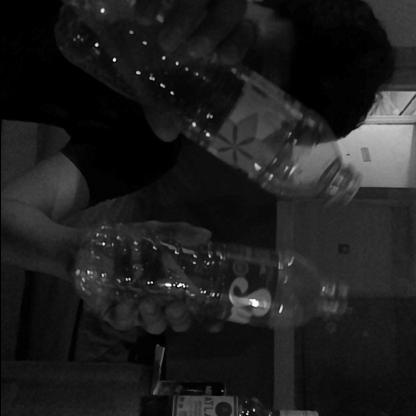plastic_bottles: (60, 9, 366, 213), (73, 229, 348, 330)
